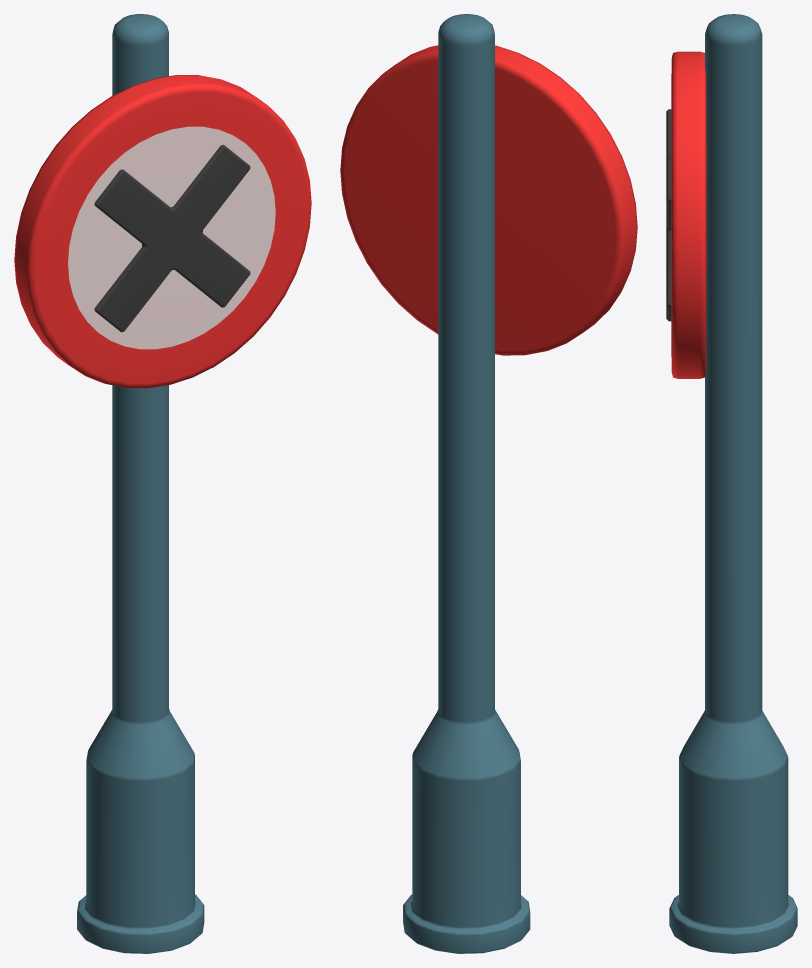
File: Town_9_Sign_1.glb
3 views of the same model, side by side, from view 1: azimuth 30°, elevation 25°; view 2: azimuth 150°, elevation 25°; view 3: azimuth 270°, elevation 25° (orthographic).
Parts seen in each view (by area): view 1: Town_9_Sign_1; view 2: Town_9_Sign_1; view 3: Town_9_Sign_1.
Boxes of the visible parts, box(x1,y1,x2,y2) form: Town_9_Sign_1: box(14, 14, 311, 953); Town_9_Sign_1: box(340, 14, 637, 953); Town_9_Sign_1: box(666, 14, 797, 953).
Size of the model in its own units: 1.35 by 4.13 by 0.5431.
Materials: 1 (1 with a texture image).
